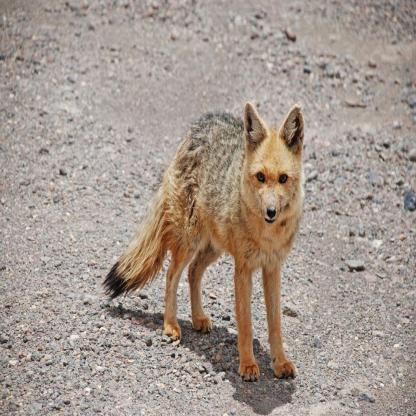raposa: (116, 80, 321, 406)
